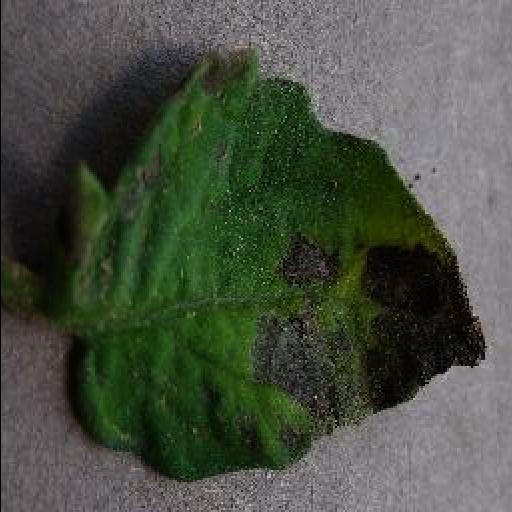disease_tomato: (48, 52, 486, 486)
